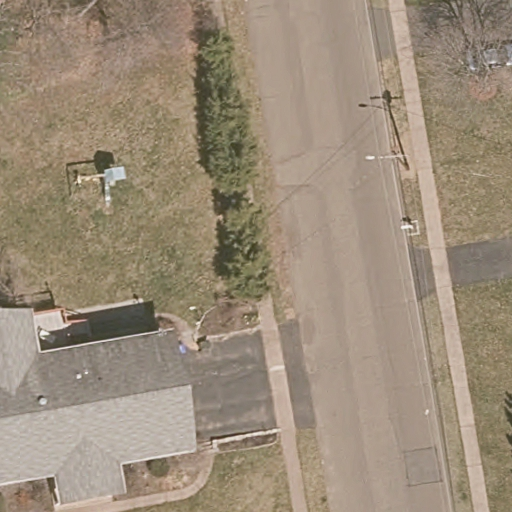DT: (364, 147, 413, 168)
